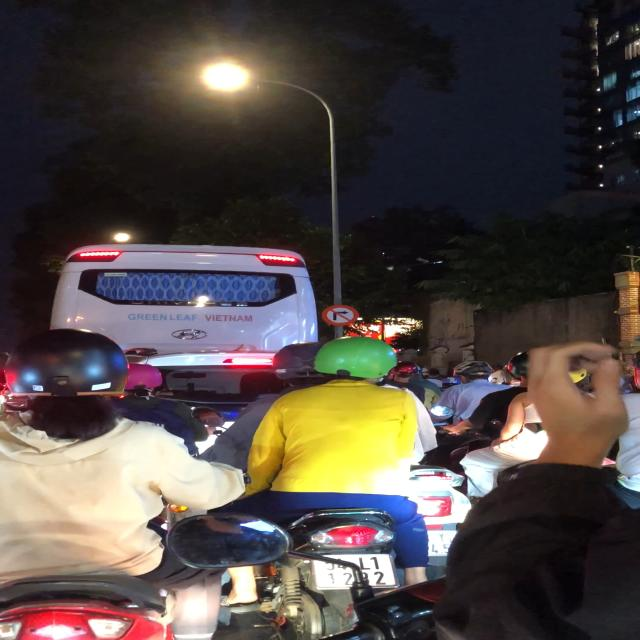Bien bao cam re phai: (317, 302, 360, 328)
